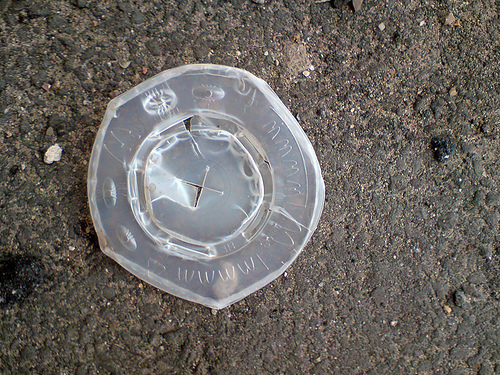litter: (85, 61, 328, 310)
